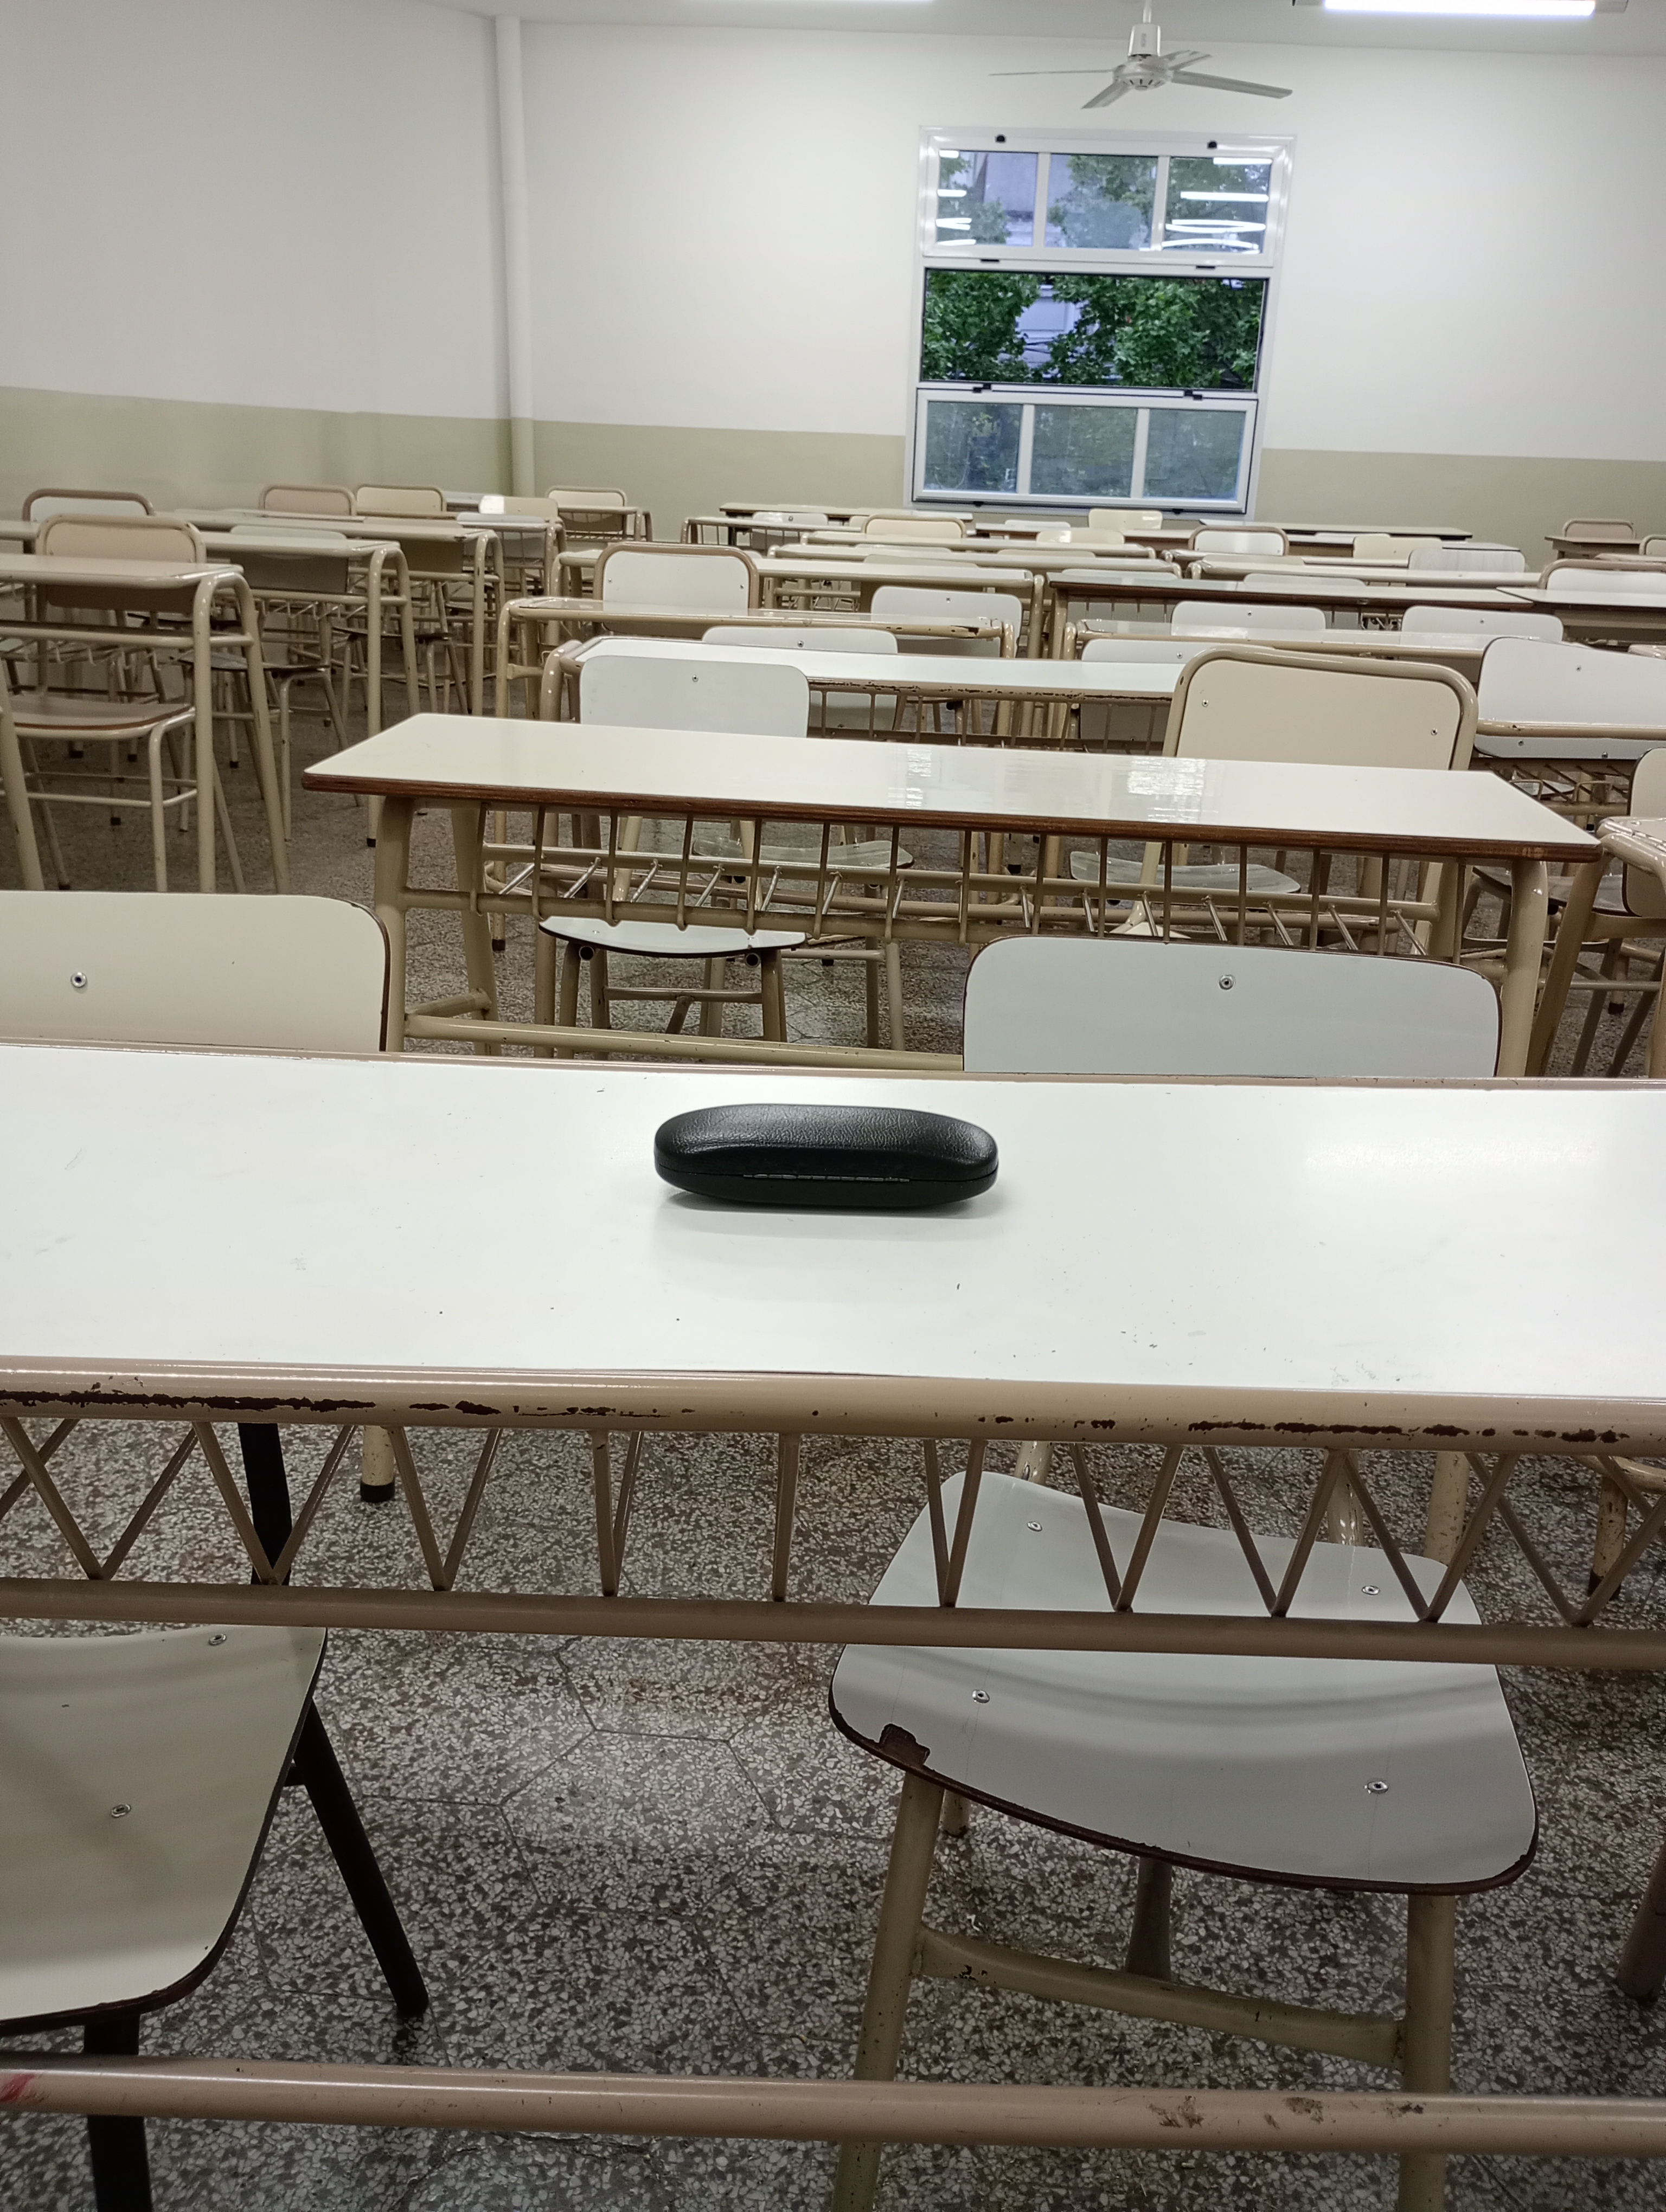estuche: (644, 1098, 1011, 1226)
